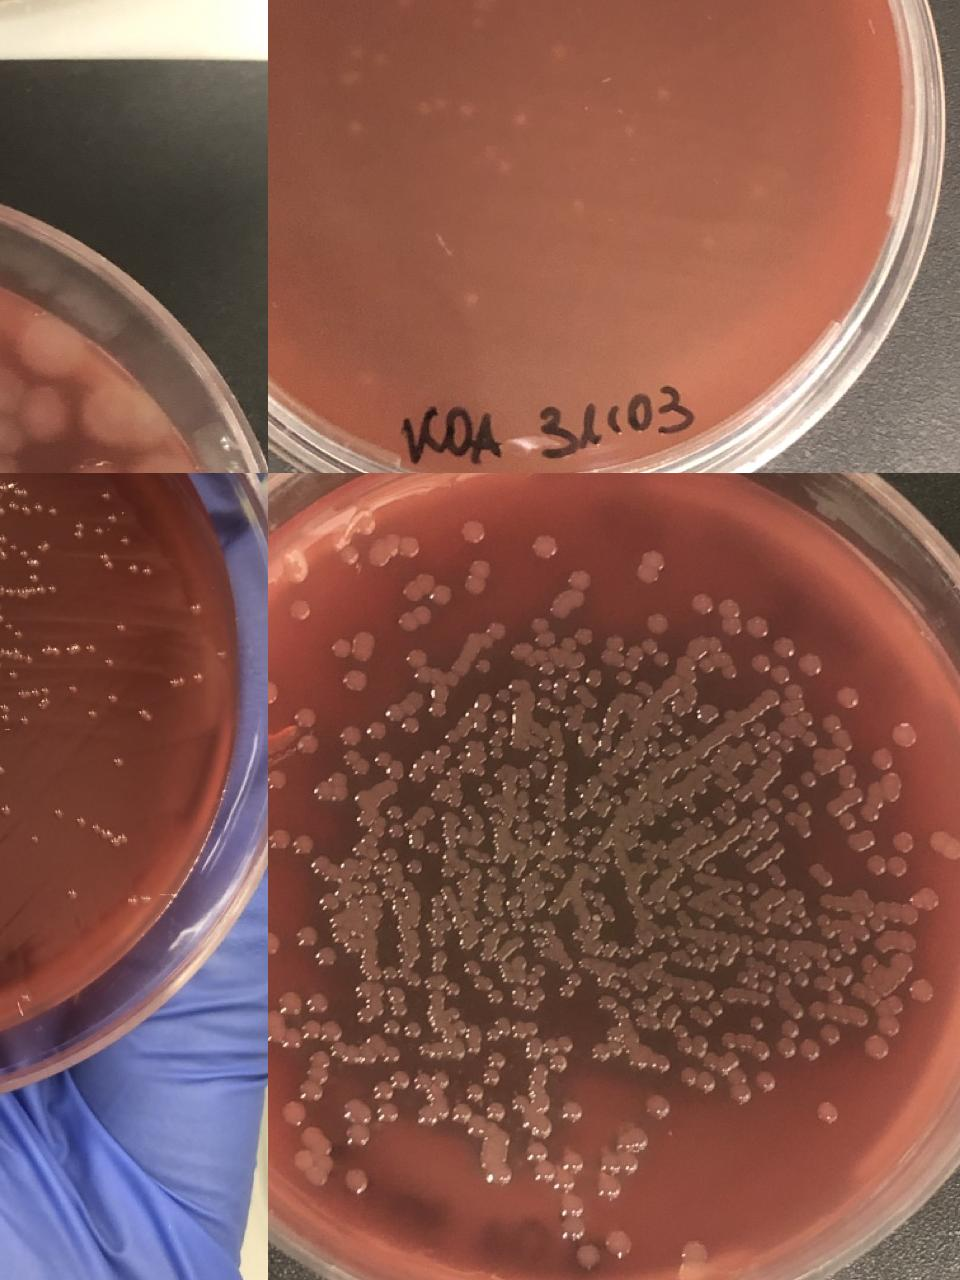assalmonicida: (16, 686, 51, 710), (4, 623, 23, 638), (138, 708, 153, 725), (100, 552, 114, 570), (0, 702, 11, 724), (169, 675, 187, 688), (112, 833, 126, 847), (74, 521, 85, 538), (189, 603, 202, 617), (119, 533, 131, 548), (18, 714, 30, 728), (8, 669, 20, 681), (0, 543, 8, 561), (141, 565, 154, 577)
pdpiscicida: (415, 96, 452, 118), (471, 0, 505, 13), (697, 235, 715, 253), (571, 197, 589, 215), (771, 168, 790, 186), (496, 159, 514, 177), (482, 144, 500, 162), (458, 102, 476, 120), (651, 87, 670, 105), (371, 53, 389, 72), (551, 40, 569, 58), (356, 370, 374, 387), (463, 290, 480, 308), (747, 184, 765, 202), (621, 123, 639, 140), (512, 110, 529, 128), (469, 16, 486, 34), (344, 68, 360, 87), (347, 121, 363, 139), (347, 44, 363, 62), (394, 0, 411, 8)
valgino: (15, 383, 79, 446), (22, 312, 86, 376), (83, 383, 145, 446), (139, 460, 193, 473)
vangil: (417, 1099, 511, 1187), (525, 1116, 586, 1240), (597, 1126, 650, 1197), (268, 1010, 346, 1055), (614, 637, 672, 688), (295, 1126, 336, 1186), (865, 997, 904, 1059), (632, 986, 681, 1031), (866, 833, 914, 878), (750, 721, 796, 765), (384, 689, 425, 737), (368, 534, 419, 566), (379, 985, 410, 1037), (736, 966, 774, 1008), (319, 878, 365, 912), (402, 573, 451, 606), (425, 893, 453, 946), (301, 1050, 330, 1102), (331, 631, 375, 662), (777, 1006, 804, 1057), (722, 1033, 771, 1060), (541, 1035, 574, 1073), (358, 1035, 401, 1064), (813, 736, 853, 767), (346, 1102, 373, 1147), (591, 1025, 624, 1060), (373, 1069, 410, 1101), (314, 770, 349, 802), (679, 1241, 707, 1280), (524, 962, 546, 1012), (372, 750, 405, 781), (746, 688, 781, 719), (563, 569, 589, 609), (825, 799, 857, 830), (681, 1068, 717, 1095), (361, 842, 401, 865), (398, 606, 434, 632), (482, 1051, 507, 1087), (560, 627, 596, 652), (413, 1069, 452, 1093), (313, 855, 343, 884), (929, 830, 960, 859), (729, 1070, 753, 1107), (689, 1002, 723, 1027), (465, 560, 490, 595), (342, 749, 372, 777), (784, 799, 813, 827), (385, 802, 405, 843), (384, 965, 421, 987), (639, 551, 664, 583), (720, 599, 740, 636), (789, 906, 814, 935), (808, 863, 834, 889), (870, 900, 890, 932), (846, 830, 876, 851), (408, 757, 430, 785), (607, 1231, 631, 1255), (344, 1168, 368, 1192), (560, 1101, 584, 1125), (281, 1101, 306, 1125), (645, 1094, 670, 1118), (871, 747, 895, 771), (892, 723, 917, 747), (799, 653, 823, 677), (746, 615, 770, 639), (559, 974, 581, 1000), (718, 653, 738, 681), (577, 1244, 600, 1268), (816, 1101, 839, 1125), (909, 978, 933, 1001), (890, 953, 915, 977), (916, 887, 940, 910), (878, 779, 902, 803), (836, 685, 859, 710), (817, 948, 842, 971), (537, 661, 555, 693), (486, 1019, 509, 1042), (280, 992, 304, 1015), (533, 534, 557, 557), (837, 765, 856, 790), (817, 914, 835, 940), (528, 1064, 548, 1086), (692, 1033, 708, 1059), (653, 924, 678, 941), (510, 908, 527, 932), (377, 1103, 397, 1123), (799, 1040, 819, 1060), (307, 992, 327, 1012), (487, 988, 507, 1008), (404, 857, 425, 877), (423, 838, 443, 858), (440, 811, 460, 831), (366, 721, 386, 741), (405, 650, 426, 670), (606, 633, 626, 653), (646, 613, 667, 633), (464, 522, 484, 542), (464, 1083, 484, 1103), (755, 1071, 775, 1091), (402, 1021, 422, 1041), (849, 1009, 869, 1028), (809, 1001, 829, 1020), (463, 958, 482, 979), (859, 952, 879, 972), (316, 948, 336, 968), (297, 925, 317, 945), (294, 836, 315, 855), (269, 829, 289, 849), (298, 735, 318, 755), (428, 700, 448, 720), (474, 692, 494, 712), (344, 671, 364, 690), (585, 667, 605, 686), (290, 601, 310, 621), (341, 546, 360, 566), (354, 512, 374, 531), (820, 1024, 839, 1043), (356, 1005, 375, 1024), (899, 905, 919, 924), (341, 727, 360, 746), (295, 709, 315, 728), (530, 617, 550, 636), (514, 788, 532, 808), (491, 706, 509, 726), (475, 655, 493, 675), (486, 622, 506, 640), (753, 653, 771, 672), (775, 639, 794, 658), (694, 595, 712, 614), (268, 769, 285, 789), (699, 703, 716, 724), (860, 804, 878, 822), (765, 797, 784, 815), (782, 782, 800, 800), (800, 770, 818, 788), (800, 730, 818, 748), (798, 710, 816, 728), (785, 684, 803, 702), (652, 1055, 670, 1073), (599, 993, 616, 1011), (437, 742, 454, 760), (824, 715, 841, 733), (771, 666, 789, 684), (874, 936, 890, 953), (850, 910, 866, 927), (704, 860, 720, 877), (735, 842, 751, 859), (693, 778, 709, 795), (737, 741, 753, 758), (684, 732, 700, 749), (646, 724, 663, 741), (536, 694, 553, 712), (496, 686, 512, 703), (636, 680, 652, 697), (566, 667, 582, 684), (706, 637, 722, 653), (720, 796, 735, 813), (268, 932, 279, 955), (899, 935, 916, 950), (820, 893, 835, 909), (476, 781, 492, 796), (667, 740, 683, 755), (659, 712, 675, 727), (699, 659, 714, 674), (524, 1022, 538, 1036), (447, 1006, 461, 1020), (618, 987, 632, 1001), (447, 983, 461, 997), (685, 941, 699, 955), (756, 921, 770, 935), (548, 902, 562, 916), (418, 1042, 432, 1056), (675, 1024, 688, 1038), (455, 1020, 469, 1033), (749, 1017, 762, 1031), (724, 989, 737, 1003), (702, 984, 715, 998), (796, 974, 809, 988), (777, 972, 791, 986), (434, 950, 447, 965), (617, 946, 631, 959), (843, 941, 856, 955), (656, 903, 670, 917), (793, 889, 806, 903), (772, 873, 786, 887), (512, 988, 525, 1001), (482, 914, 495, 927), (680, 883, 693, 896), (745, 883, 758, 896), (268, 683, 276, 703)
